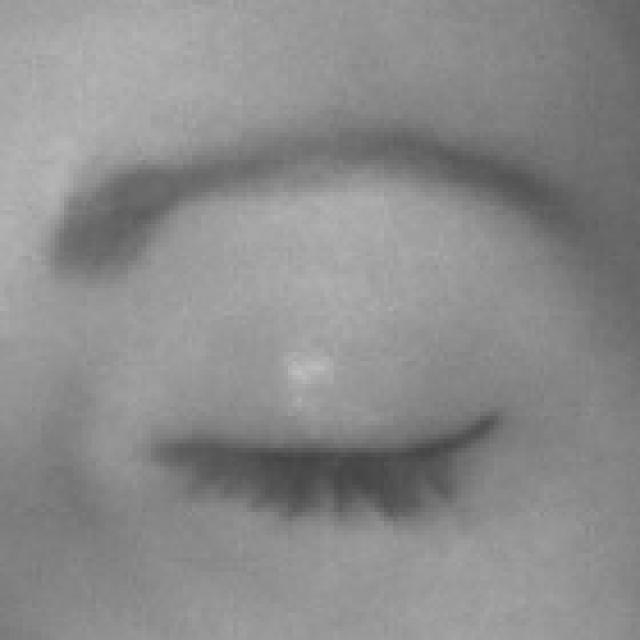close: (20, 78, 640, 580)
